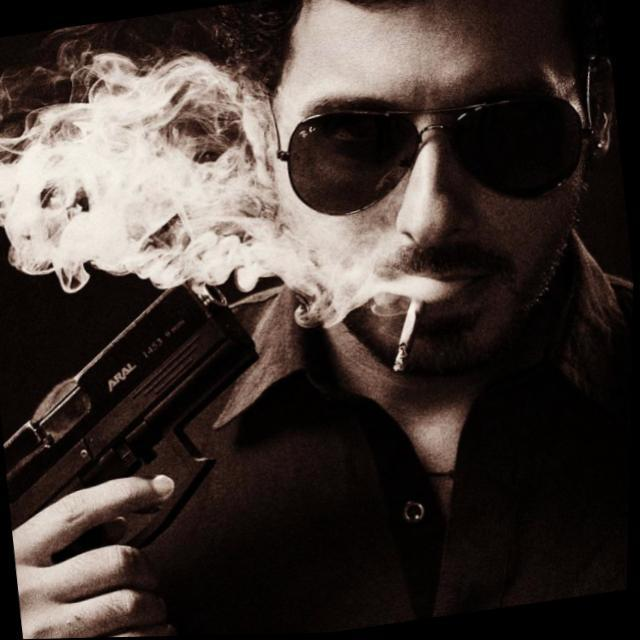weapon: (0, 265, 302, 640)
